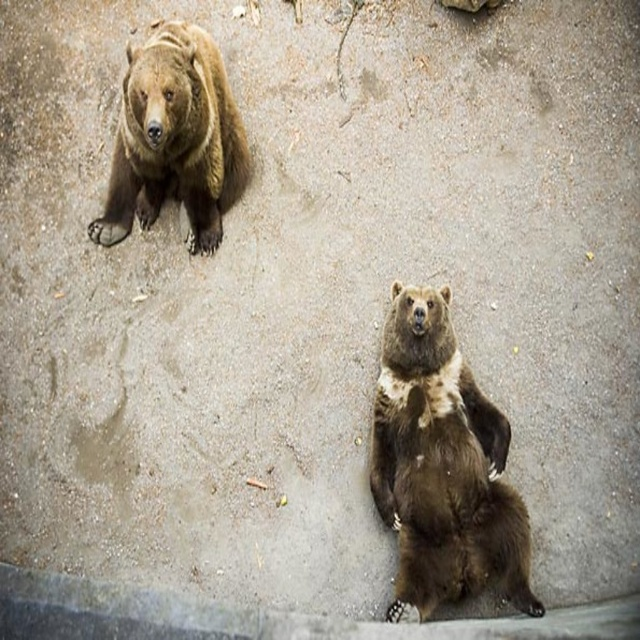Bear: (368, 276, 546, 613), (86, 16, 252, 257)
